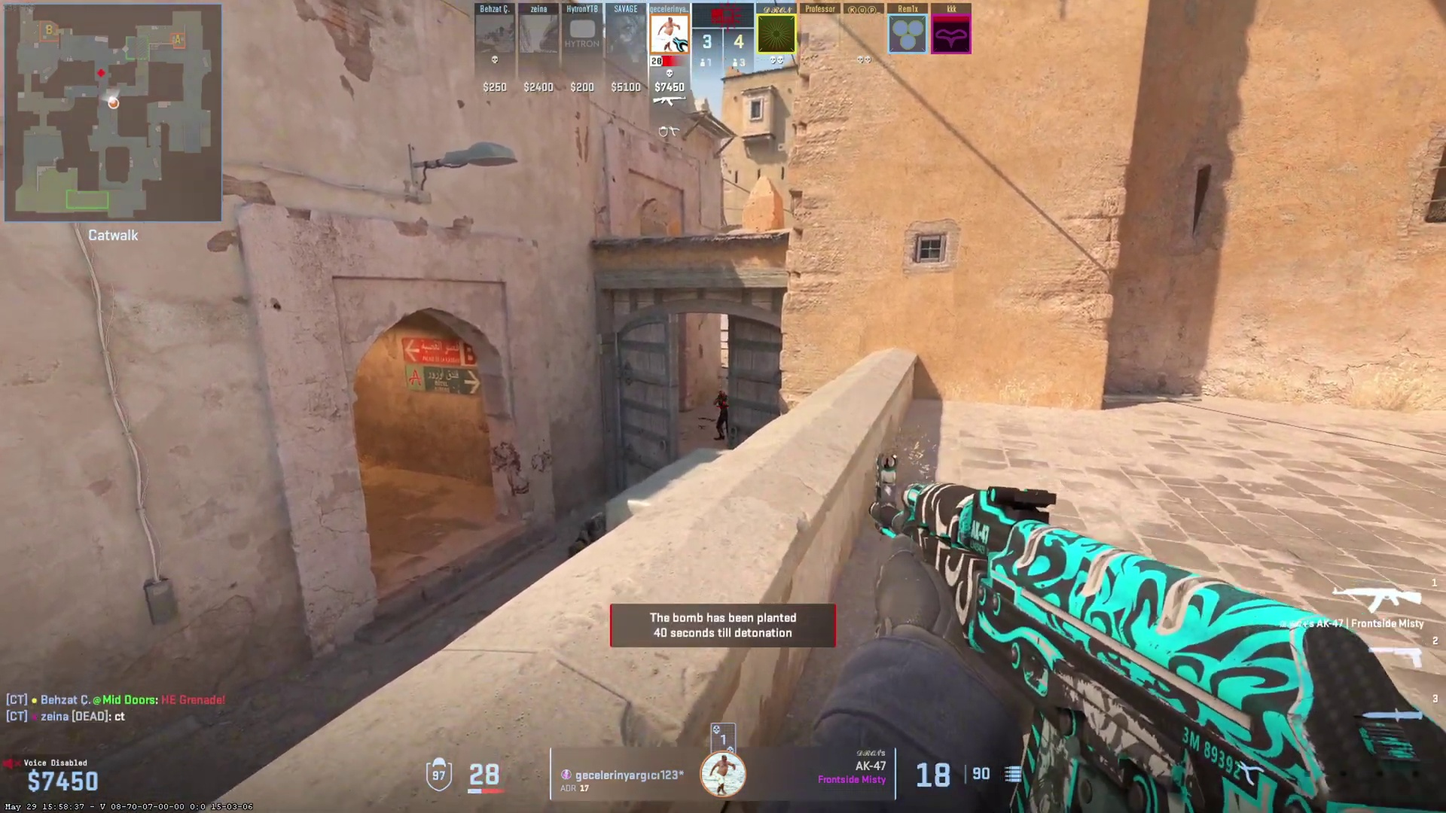Terrorist: (714, 391, 729, 439)
